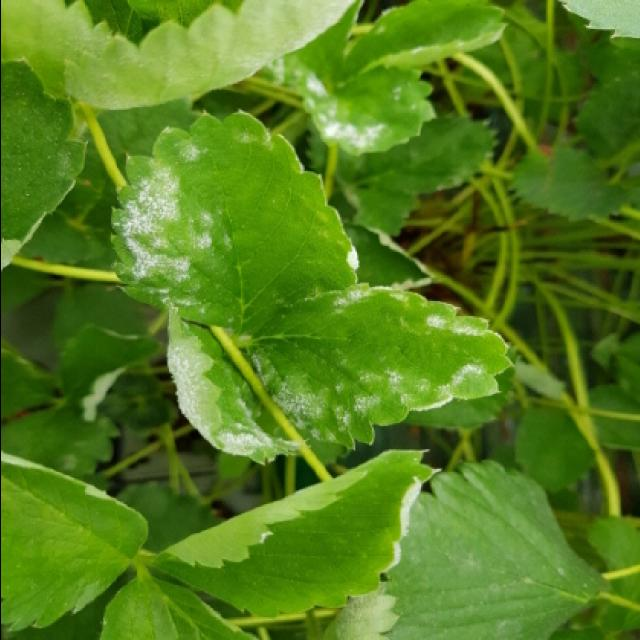Powdery Mildew Leaf: (110, 109, 361, 333), (149, 448, 441, 621), (248, 280, 516, 452), (165, 306, 305, 466), (277, 60, 437, 158)
